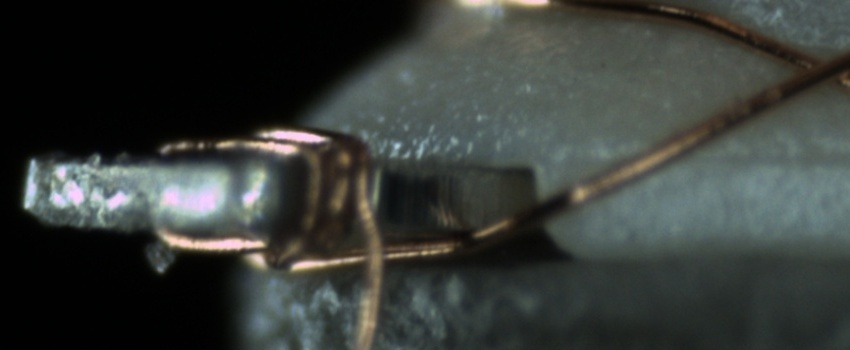CL: (775, 35, 849, 93)
DL: (604, 124, 849, 189)
TE: (163, 115, 384, 273)
